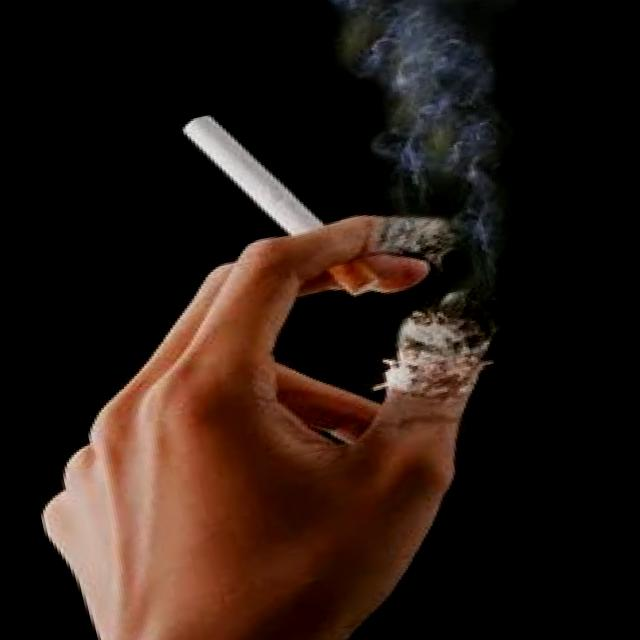smoke: (174, 78, 400, 339)
